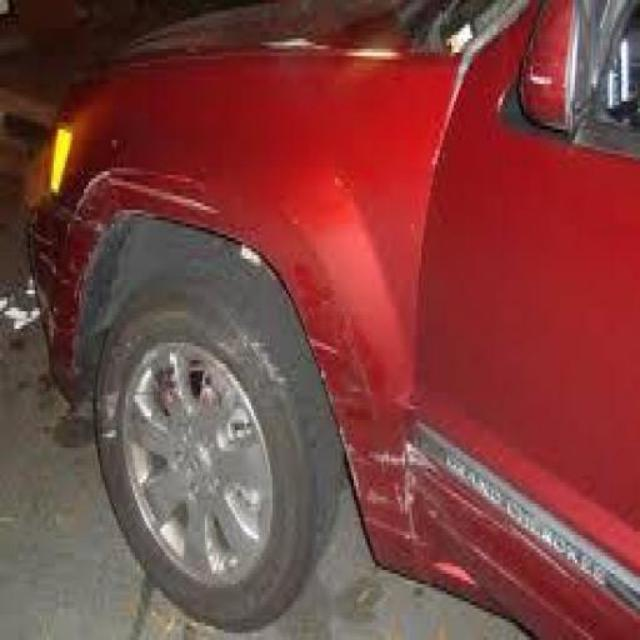rub: (305, 269, 589, 630), (29, 161, 220, 386)
